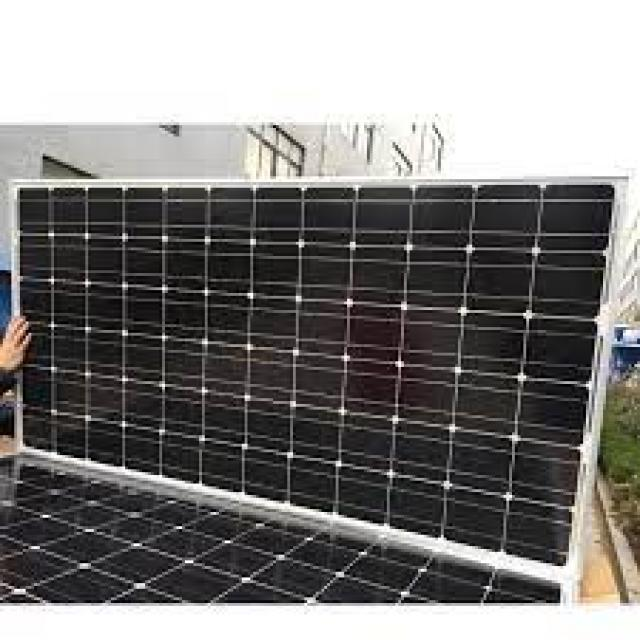no faulty: (20, 188, 618, 528)
